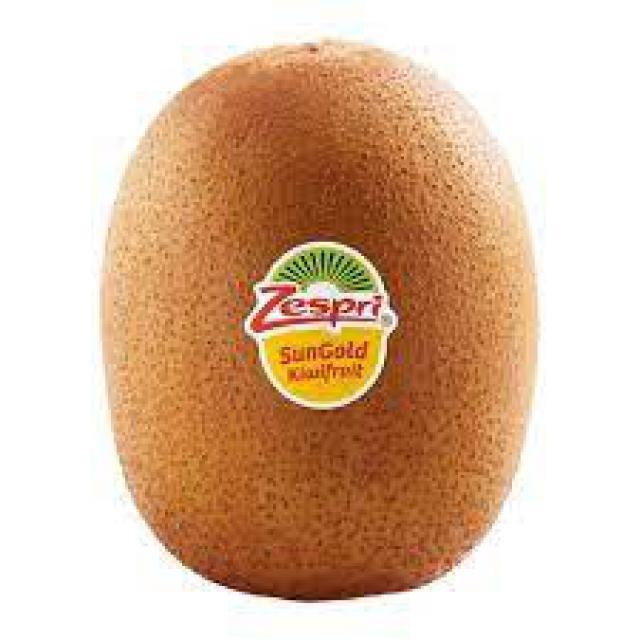kiwi: (98, 38, 536, 601)
